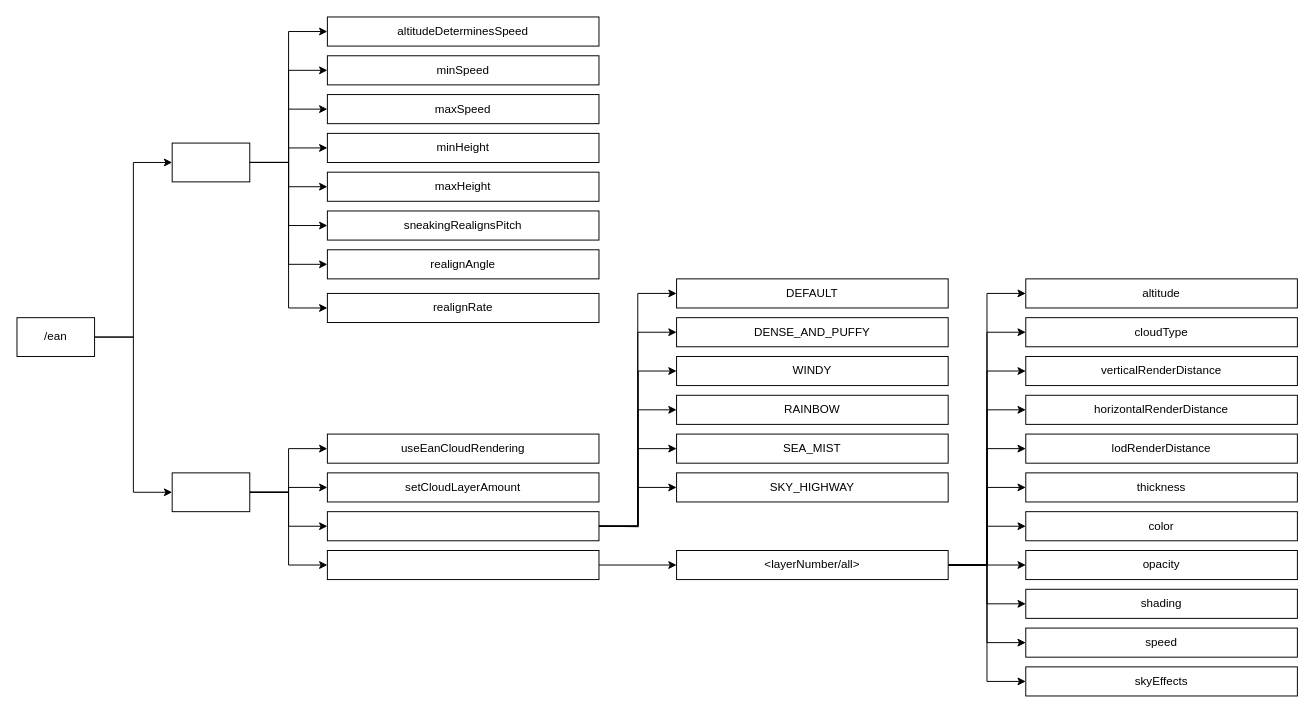
Some shapes in this 1314 by 713 pixel diagram are drawn without their labels. Here are the shapes that lost their labels. From the top down, the centre of each, then its label:
At pixel 210 162: "FlightConfig".
At pixel 210 492: "CloudConfig".
At pixel 462 526: "loadPreset".
At pixel 462 565: "configCloudLayer".
